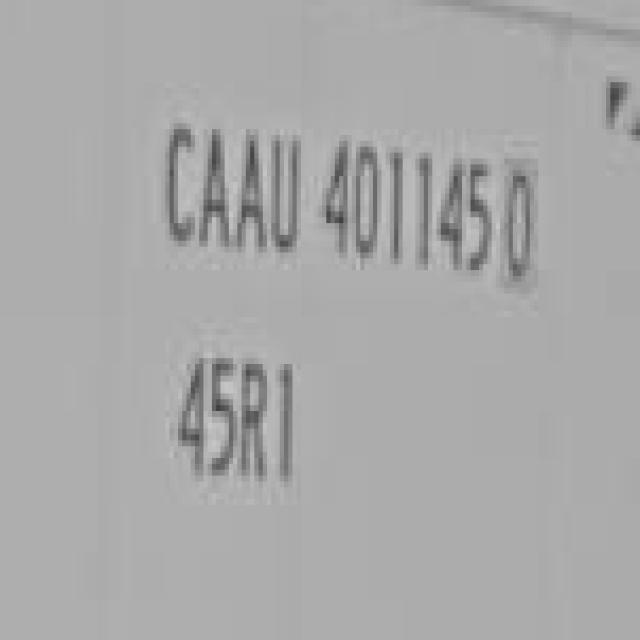dv: (498, 148, 554, 303)
owner: (148, 103, 308, 270)
serial: (316, 114, 494, 298)
size: (158, 340, 316, 501)
